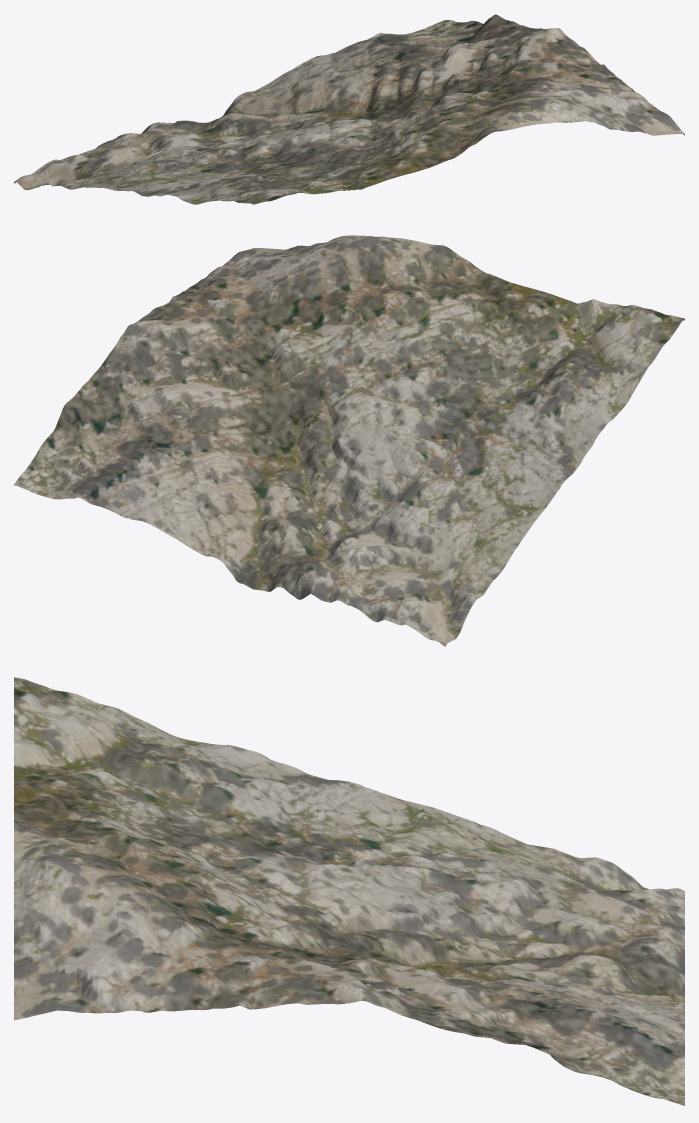
The picture shows the model from 3 angles, top to bottom: view 1: azimuth 30°, elevation 25°; view 2: azimuth 150°, elevation 25°; view 3: azimuth 270°, elevation 25°; orthographic projection. The views are drawn at different scales.
Size of the model in its own units: 250 by 95.12 by 241.
1 material, 1 textured.
